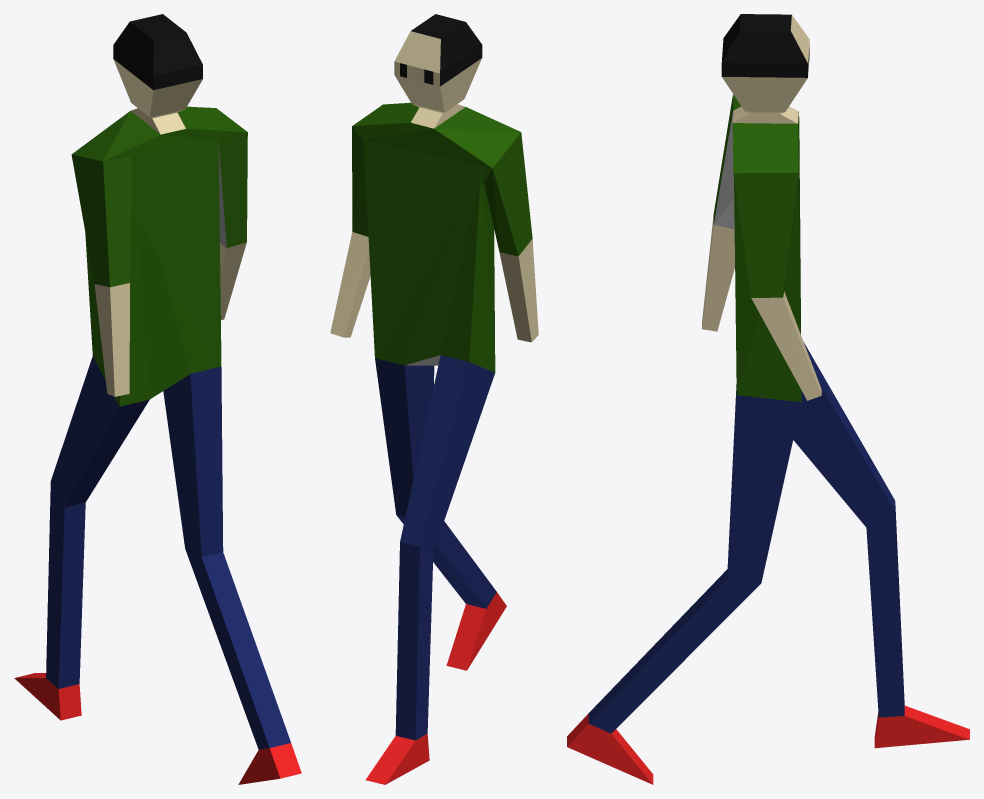
Rendered from model_animation.obj.
3 views of the same model, side by side, from view 1: azimuth 30°, elevation 25°; view 2: azimuth 150°, elevation 25°; view 3: azimuth 270°, elevation 25° (orthographic). The views are drawn at different scales.
Parts seen in each view (by area): view 1: Box003; view 2: Box003; view 3: Box003.
Boxes of the visible parts, bbox=[...] form: Box003: bbox=[14, 14, 301, 784]; Box003: bbox=[330, 14, 538, 784]; Box003: bbox=[567, 14, 969, 784].
Bounding box in the file's own units: 3.2 × 13.76 × 6.79.
